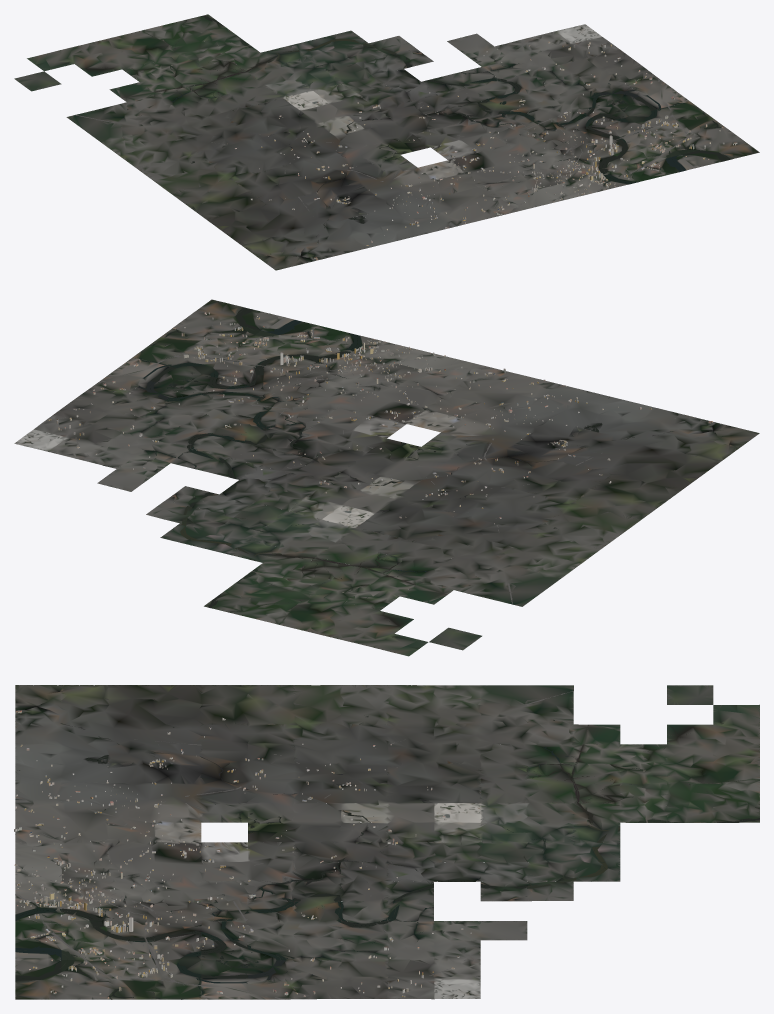
3 views of the same model, one above another, from view 1: azimuth 30°, elevation 25°; view 2: azimuth 150°, elevation 25°; view 3: azimuth 270°, elevation 25° (orthographic). The views are drawn at different scales.
Parts seen in each view (by area): view 1: ground, water, buildings, roads; view 2: ground, water, buildings, roads; view 3: ground, water, buildings, roads.
Part boxes in pixels (x1=…): ground: x1=14, y1=14, x2=759, y2=270; water: x1=68, y1=15, x2=731, y2=259; buildings: x1=227, y1=41, x2=737, y2=260; roads: x1=75, y1=42, x2=722, y2=256; ground: x1=14, y1=299, x2=759, y2=656; water: x1=103, y1=307, x2=722, y2=637; buildings: x1=48, y1=312, x2=712, y2=524; roads: x1=75, y1=319, x2=695, y2=603; ground: x1=15, y1=685, x2=759, y2=999; water: x1=15, y1=698, x2=759, y2=999; buildings: x1=14, y1=710, x2=471, y2=998; roads: x1=15, y1=691, x2=573, y2=999.
Bounding box in the file's own units: 22411 × 466 × 22446.
